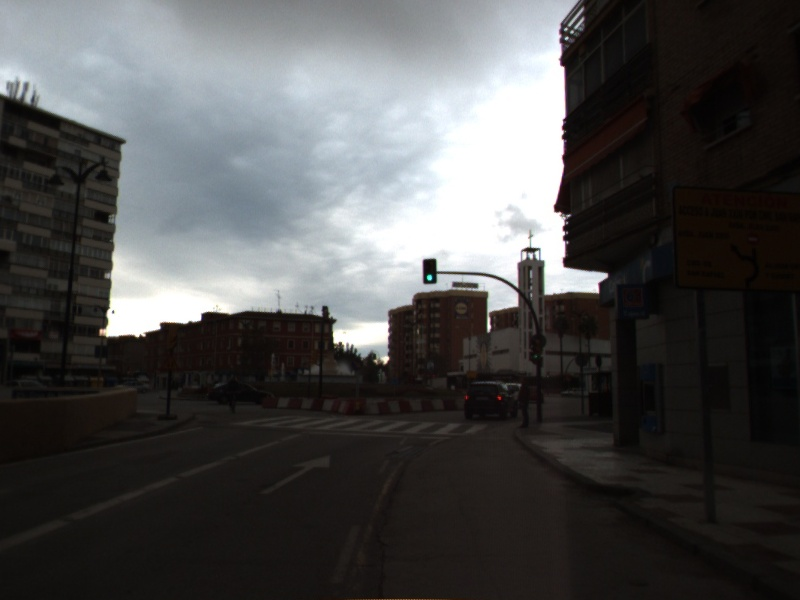STRAIGHT: (257, 453, 332, 496)
